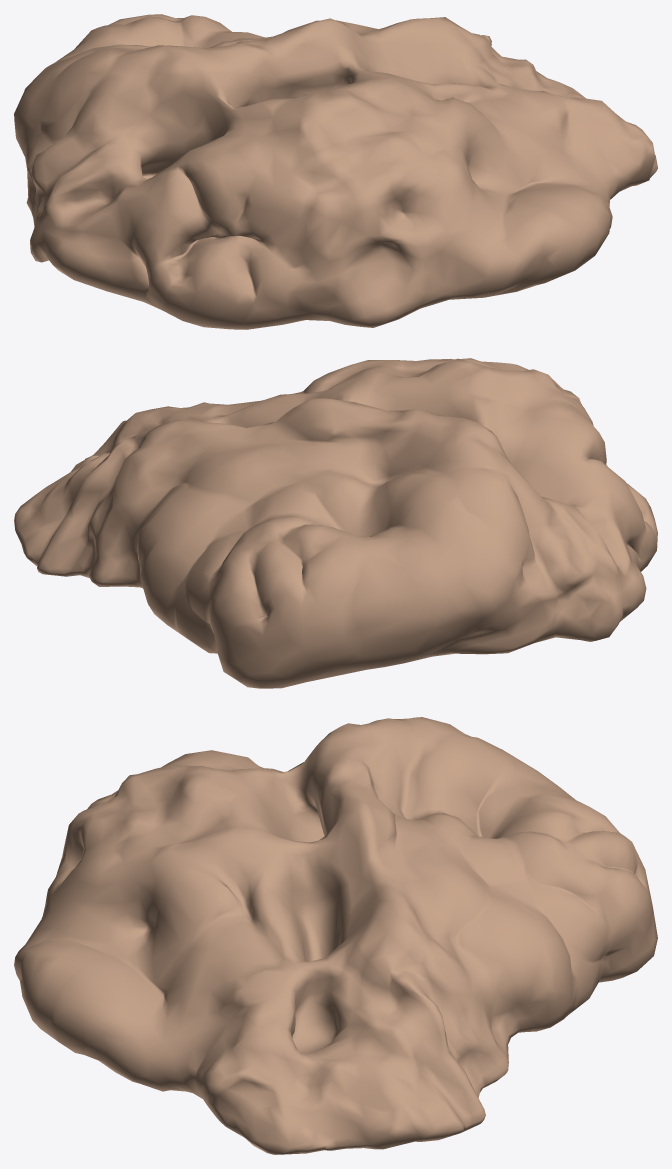
Rendered from Gum.fbx.
3 renders of one model, top to bottom at view 1: azimuth 30°, elevation 25°; view 2: azimuth 150°, elevation 25°; view 3: azimuth 270°, elevation 25°, orthographic. The views are drawn at different scales.
Visible parts, largest first — view 1: Gum; view 2: Gum; view 3: Gum.
Part boxes in pixels (x1,y1,x2,y2): Gum: [14, 14, 657, 329]; Gum: [14, 358, 657, 688]; Gum: [14, 717, 657, 1154].
Bounding box in the file's own units: 2.69 × 2.41 × 0.8848.
